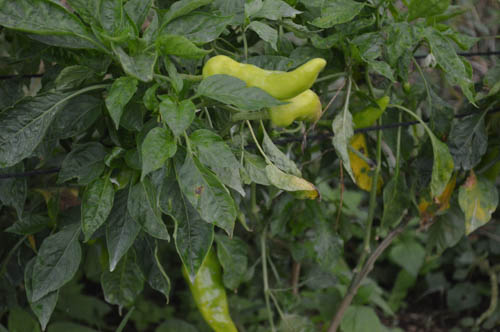ChiliPepper: (200, 49, 328, 106), (179, 242, 238, 332), (251, 90, 330, 128), (347, 96, 394, 129)
